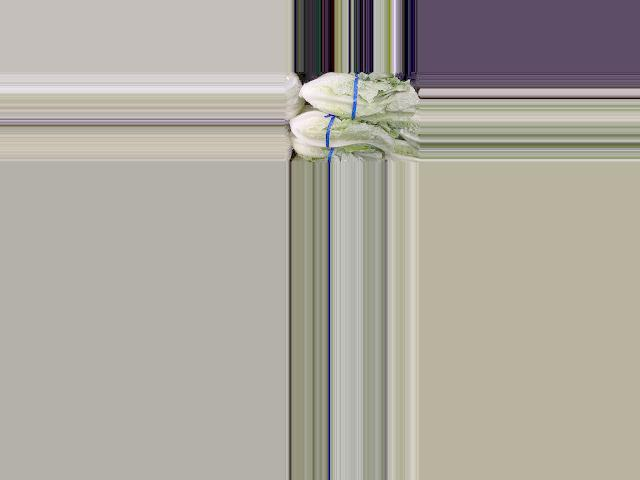lettuce: (288, 110, 396, 156)
